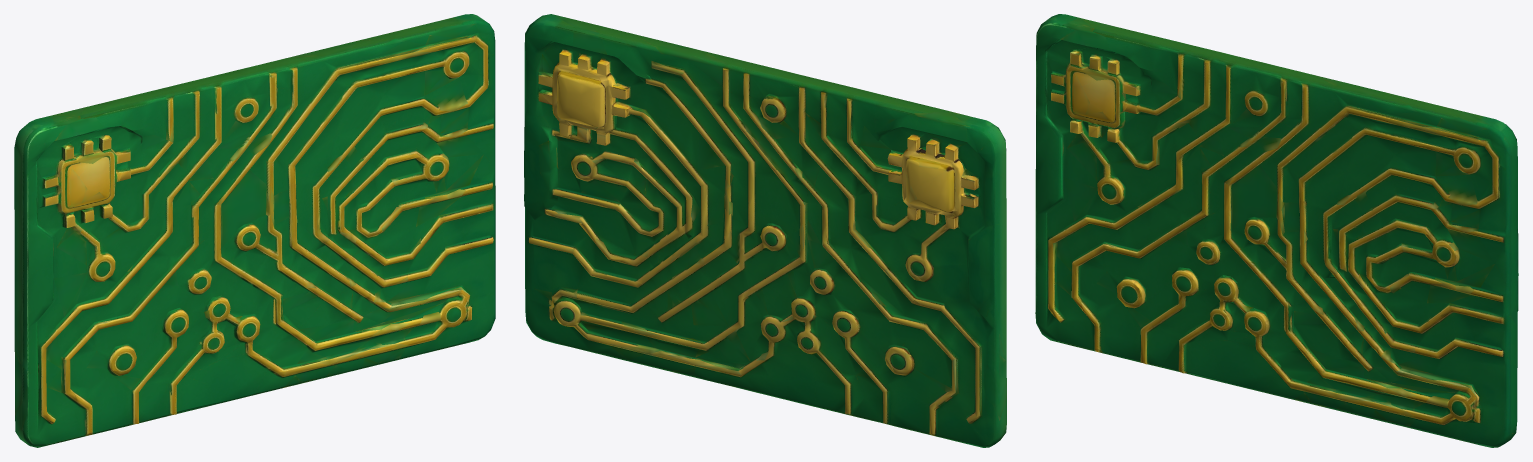
3 renders of one model, left to right at view 1: azimuth 30°, elevation 25°; view 2: azimuth 150°, elevation 25°; view 3: azimuth 330°, elevation 25°, orthographic.
Bounding box in the file's own units: 1.91 × 1.24 × 0.1659.
1 material, 1 textured.
